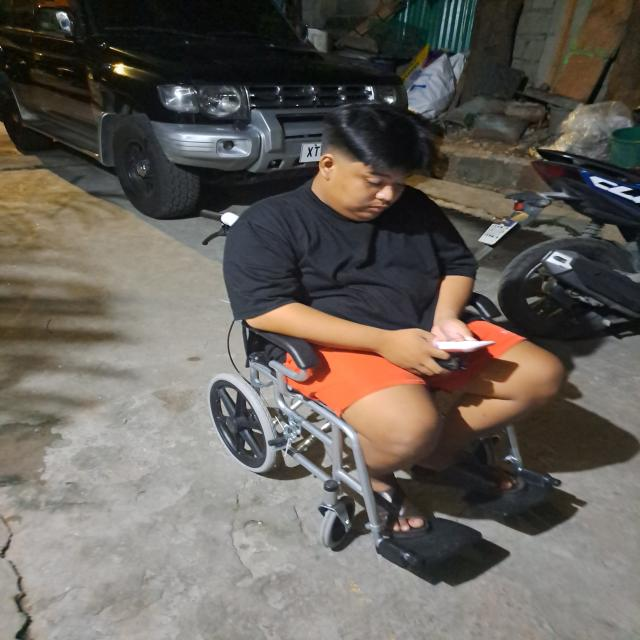wheelchairs: (184, 211, 581, 587)
